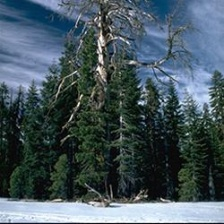neutral: (1, 1, 224, 218)
